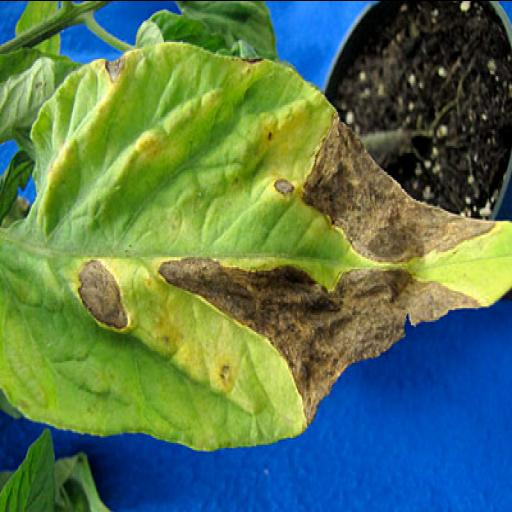Early Blight: (2, 31, 512, 451)
